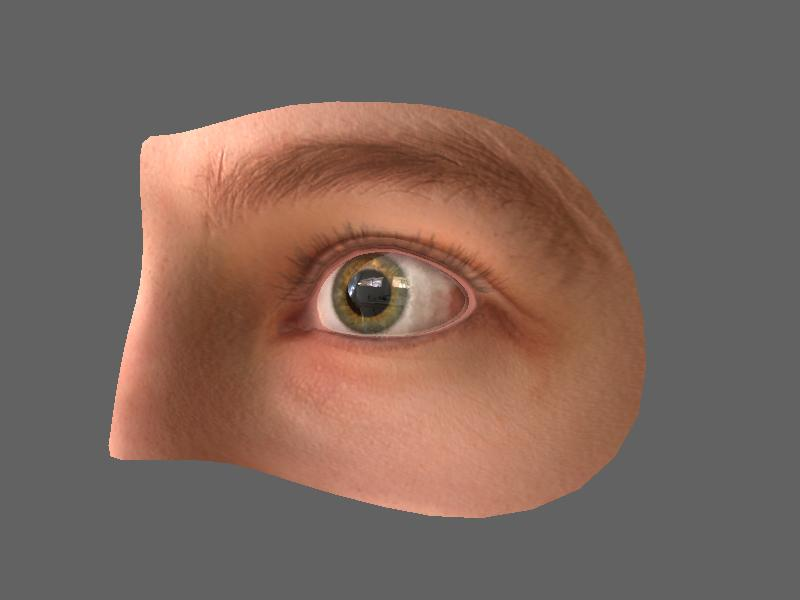iris: (330, 255, 412, 334)
